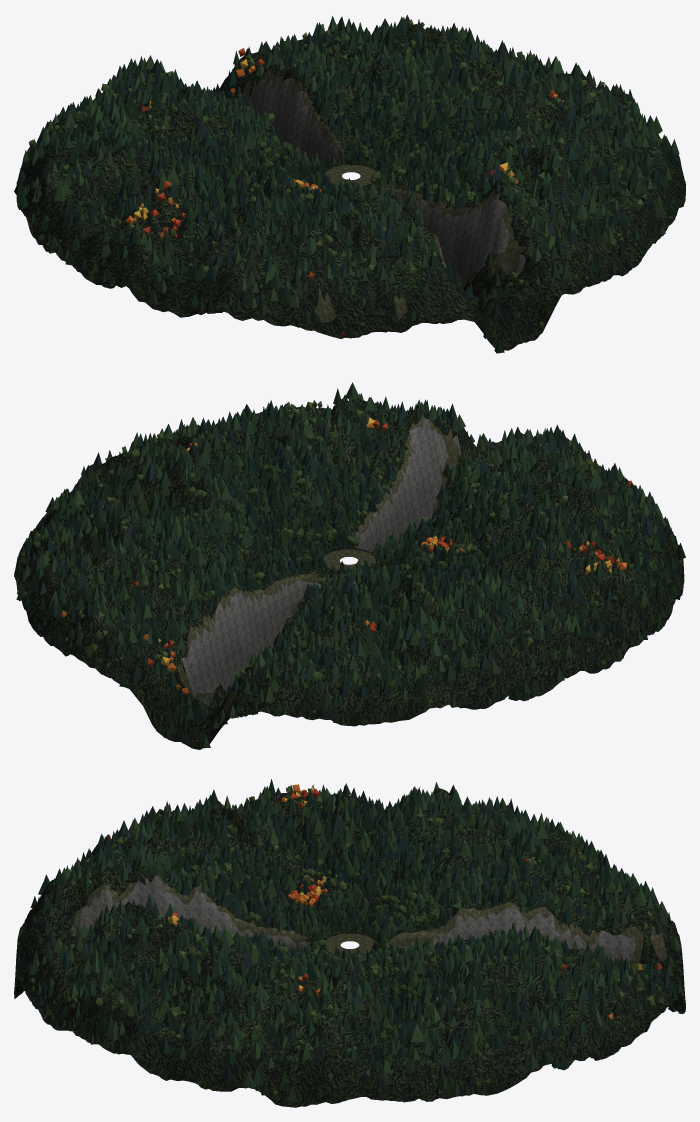
Rendered from backdrop_near_c23_summer.glb.
The picture shows the model from 3 angles, top to bottom: view 1: azimuth 30°, elevation 25°; view 2: azimuth 150°, elevation 25°; view 3: azimuth 270°, elevation 25°; orthographic projection.
Visible parts, largest first — view 1: near_land_S, trees_land_W_0, trees_land_S_0, trees_land_E_0, near_land_W, trees_land_N_0, near_land_E, near_land_N; view 2: near_land_N, trees_land_N_0, trees_land_W_0, trees_land_E_0, near_land_W, trees_land_S_0, near_land_S, near_land_E; view 3: trees_land_E_0, near_land_E, trees_land_W_0, trees_land_N_0, near_land_S, trees_land_S_0, near_land_N, near_land_W.
Part boxes in pixels (x1,y1,x2,y2): near_land_S: (263, 133, 674, 351); trees_land_W_0: (14, 92, 341, 315); trees_land_S_0: (268, 123, 665, 353); trees_land_E_0: (361, 19, 679, 216); near_land_W: (16, 106, 325, 320); trees_land_N_0: (28, 15, 422, 171); near_land_E: (355, 24, 685, 220); near_land_N: (28, 26, 429, 172); near_land_N: (26, 531, 439, 749); trees_land_N_0: (37, 525, 433, 748); trees_land_W_0: (355, 469, 685, 707); trees_land_E_0: (14, 400, 337, 605); near_land_W: (374, 479, 684, 709); trees_land_S_0: (266, 382, 662, 556); near_land_S: (289, 398, 637, 558); near_land_E: (14, 409, 342, 610); trees_land_E_0: (116, 931, 584, 1102); near_land_E: (113, 936, 587, 1107); trees_land_W_0: (127, 779, 567, 935); trees_land_N_0: (372, 822, 685, 1053); near_land_S: (14, 827, 333, 1053); trees_land_S_0: (15, 820, 329, 1044); near_land_N: (369, 831, 685, 1060); near_land_W: (140, 788, 561, 937).
Bounding box in the file's own units: 579 × 177 × 576.
4 materials, 3 textured.
